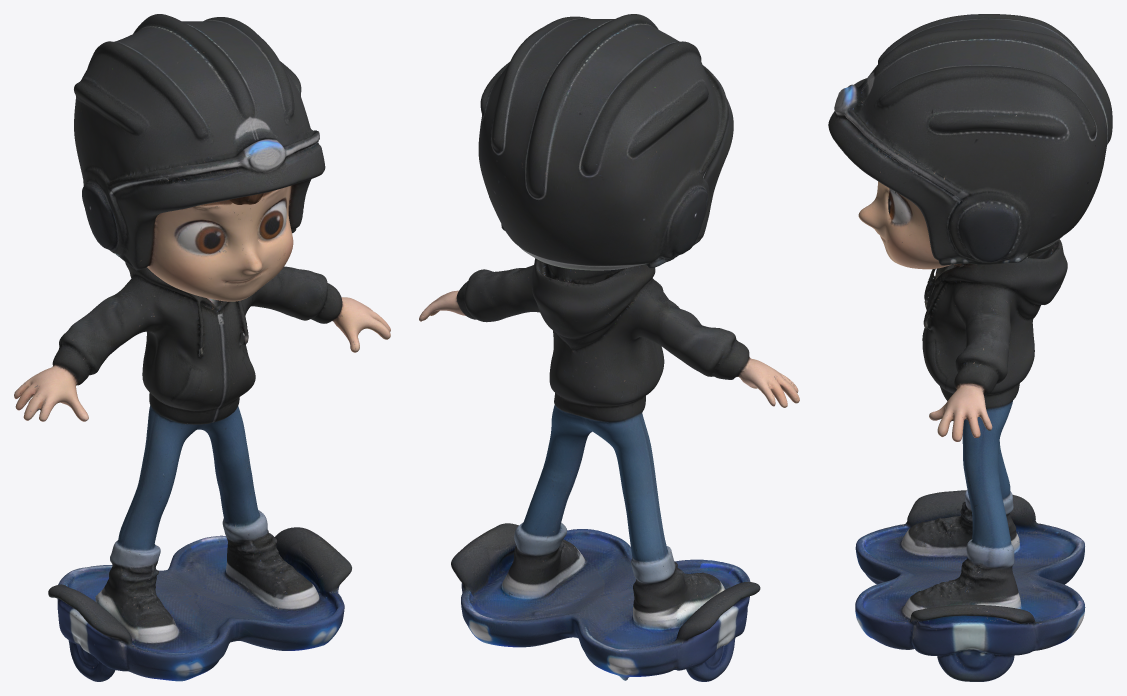
File: player_game.glb
The picture shows the model from 3 angles, left to right: view 1: azimuth 30°, elevation 25°; view 2: azimuth 150°, elevation 25°; view 3: azimuth 270°, elevation 25°; orthographic projection. The views are drawn at different scales.
Size of the model in its own units: 1.25 by 2 by 0.8588.
1 material, 1 textured.
